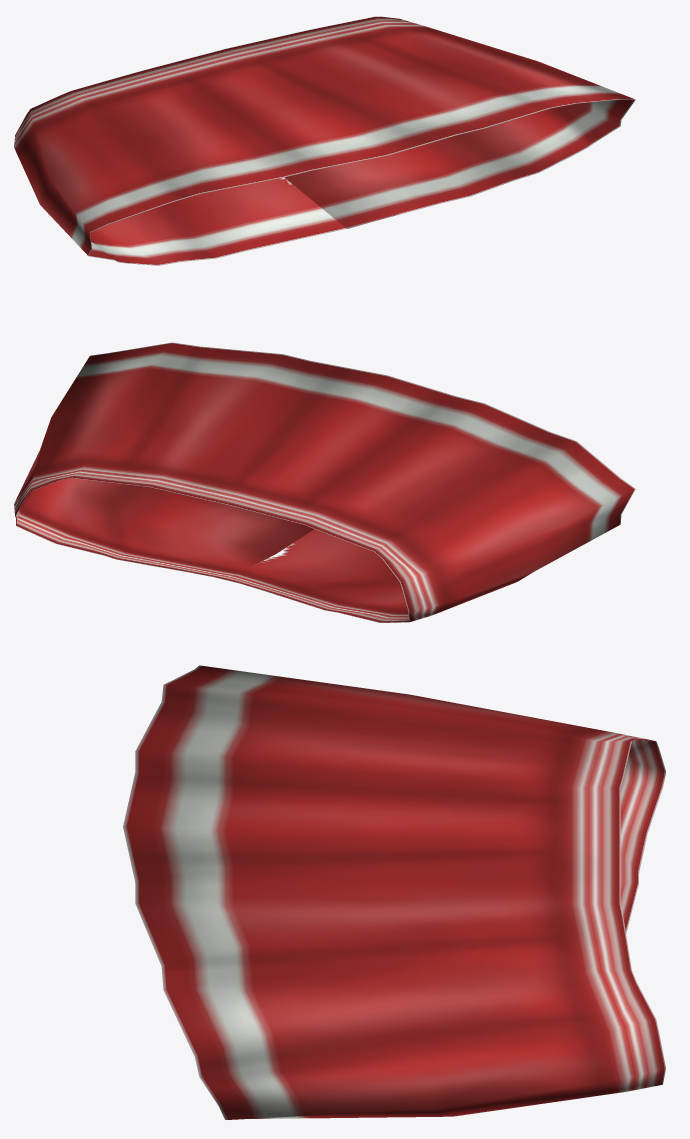
File: PL1_Ground.fbx
The picture shows the model from 3 angles, top to bottom: view 1: azimuth 30°, elevation 25°; view 2: azimuth 150°, elevation 25°; view 3: azimuth 270°, elevation 25°; orthographic projection. The views are drawn at different scales.
Visible parts, largest first — view 1: Body.018; view 2: Body.018; view 3: Body.018.
Part boxes in pixels (x1,y1,x2,y2): Body.018: (14, 16, 635, 265); Body.018: (14, 342, 635, 622); Body.018: (123, 665, 665, 1119).
Bounding box in the file's own units: 0.2408 × 0.0443 × 0.1567.
